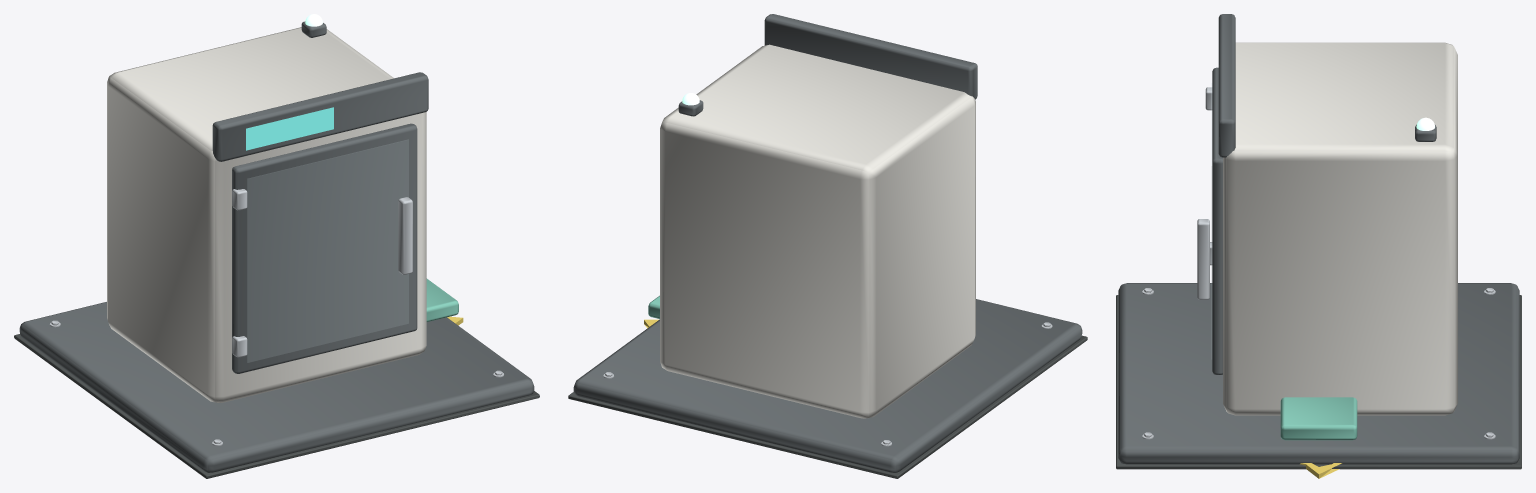
File: incubadora.glb
3 views of the same model, side by side, from view 1: azimuth 30°, elevation 25°; view 2: azimuth 150°, elevation 25°; view 3: azimuth 270°, elevation 25° (orthographic). The views are drawn at different scales.
Visible parts, largest first — view 1: cuerpo, puerta_marco, zocalo, puerta_vidrio, panel, zocalo_goma, pantalla, tirador, salida_bandeja; view 2: cuerpo, zocalo, panel, zocalo_goma; view 3: cuerpo, zocalo, salida_bandeja, zocalo_goma, puerta_marco, panel, tirador.
Part boxes in pixels (x1,y1,x2,y2): cuerpo: (107, 27, 426, 402); puerta_marco: (232, 123, 417, 373); zocalo: (19, 302, 534, 472); puerta_vidrio: (247, 140, 408, 362); panel: (212, 72, 428, 161); zocalo_goma: (14, 334, 539, 478); pantalla: (246, 107, 333, 150); tirador: (398, 197, 412, 274); salida_bandeja: (426, 278, 458, 321); cuerpo: (660, 44, 975, 418); zocalo: (573, 299, 1082, 472); panel: (764, 14, 977, 99); zocalo_goma: (568, 335, 1087, 478); cuerpo: (1223, 42, 1457, 415); zocalo: (1118, 283, 1519, 464); salida_bandeja: (1280, 397, 1357, 440); zocalo_goma: (1116, 295, 1521, 469); puerta_marco: (1212, 67, 1222, 374); panel: (1218, 14, 1235, 157); tirador: (1197, 219, 1209, 299).
Size of the model in its own units: 1 by 0.82 by 0.95.
